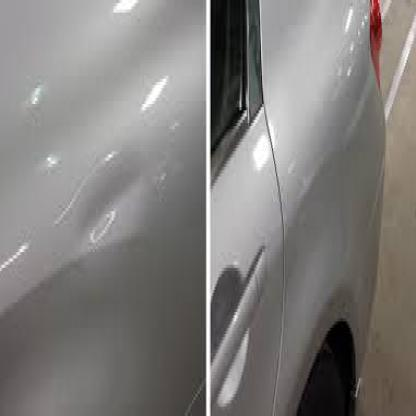dent: (86, 202, 121, 250)
